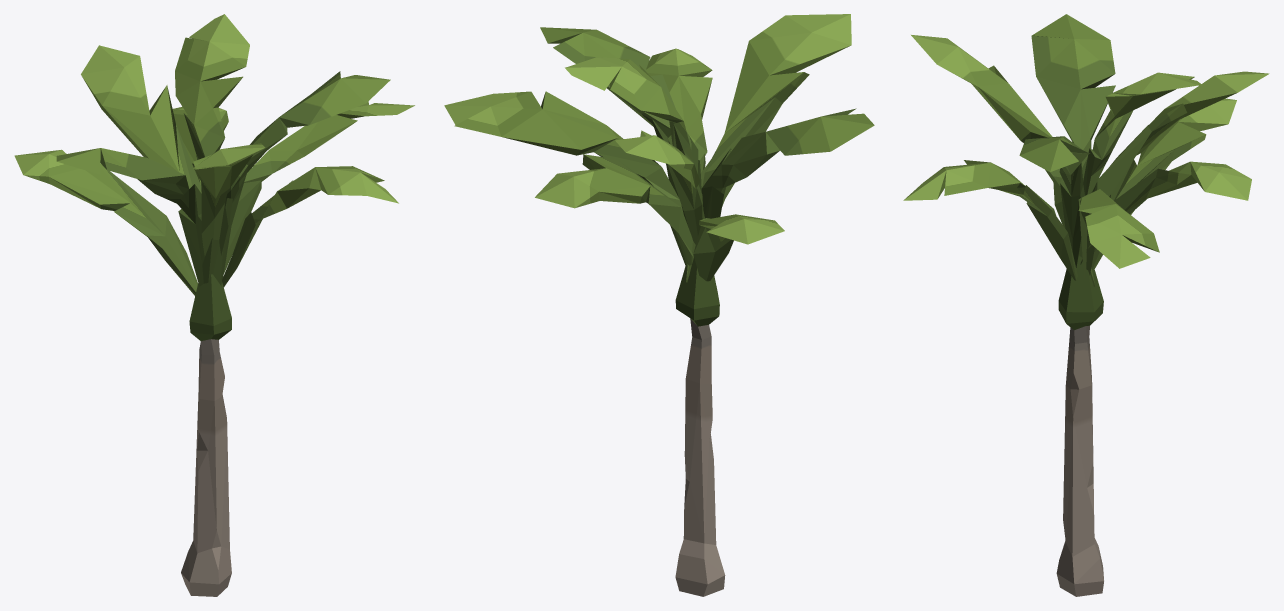
3 renders of one model, left to right at view 1: azimuth 30°, elevation 25°; view 2: azimuth 150°, elevation 25°; view 3: azimuth 270°, elevation 25°, orthographic. The views are drawn at different scales.
Parts seen in each view (by area): view 1: SM_Env_Tree_01; view 2: SM_Env_Tree_01; view 3: SM_Env_Tree_01.
Part boxes in pixels (bbox=[...]): SM_Env_Tree_01: bbox=[14, 14, 414, 596]; SM_Env_Tree_01: bbox=[444, 14, 874, 596]; SM_Env_Tree_01: bbox=[903, 14, 1269, 596].
Bounding box in the file's own units: 4.66 × 6.06 × 3.69.
Materials: 1 (1 with a texture image).
